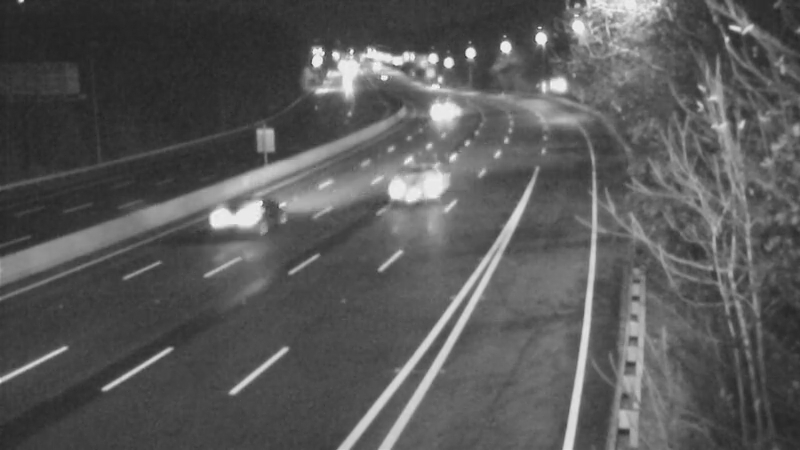vehicle: (391, 139, 471, 219), (196, 185, 276, 265), (406, 62, 456, 112), (417, 83, 467, 133)
